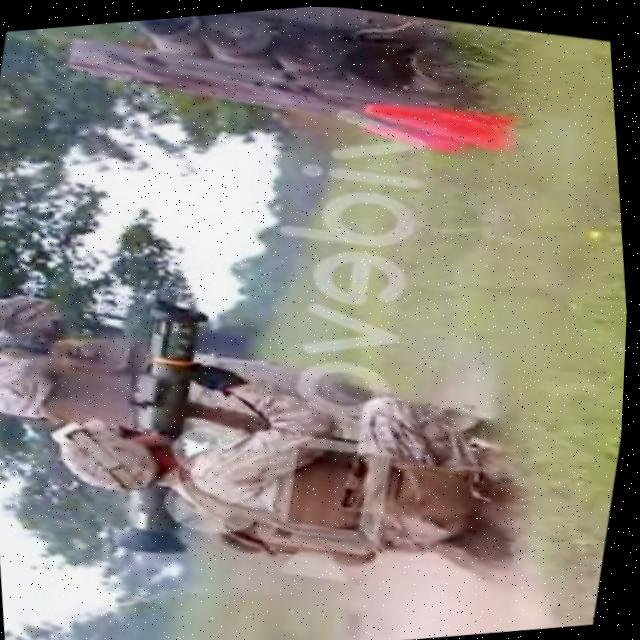rocket: (87, 298, 244, 567)
